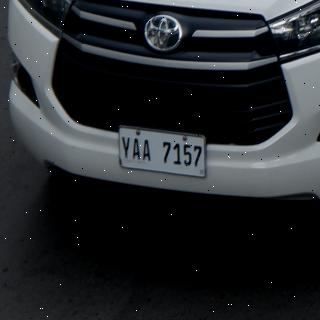license: (120, 128, 207, 179)
